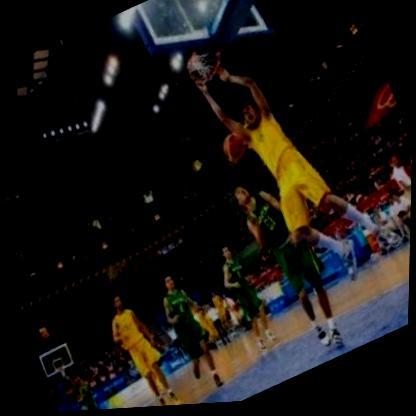basketball: (212, 124, 258, 182)
